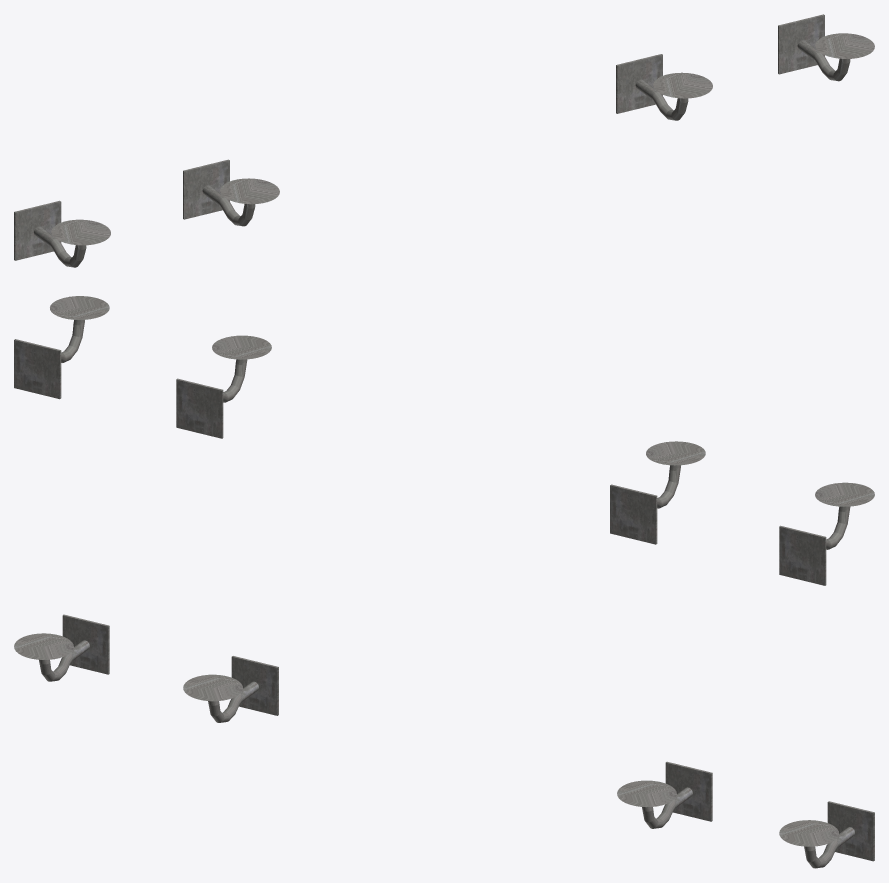
File: lamp.obj
The picture shows the model from 3 angles, top to bottom: view 1: azimuth 30°, elevation 25°; view 2: azimuth 150°, elevation 25°; view 3: azimuth 330°, elevation 25°; orthographic projection.
Parts seen in each view (by area): view 1: Cylinder; view 2: Cylinder; view 3: Cylinder.
Part boxes in pixels (x1,y1,x2,y2): Cylinder: (14, 14, 874, 267); Cylinder: (14, 296, 874, 585); Cylinder: (14, 614, 874, 868).
Size of the model in its own units: 60.94 by 3.86 by 7.56.
